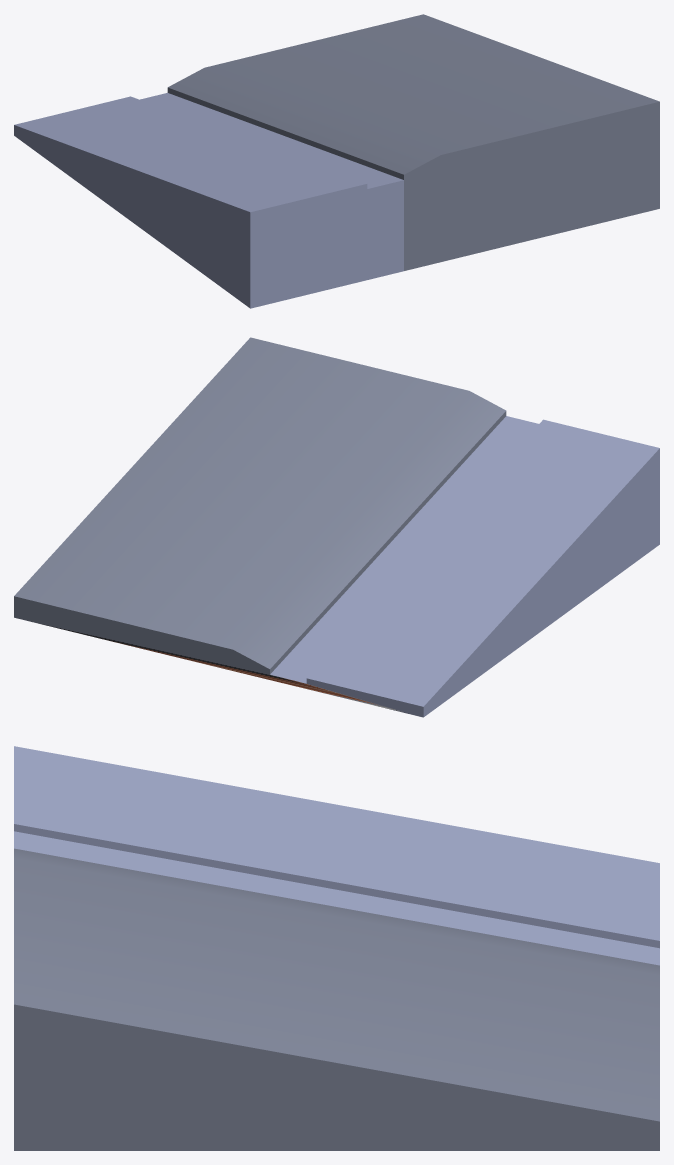
The model's file is road-edge-slope.glb.
The picture shows the model from 3 angles, top to bottom: view 1: azimuth 30°, elevation 25°; view 2: azimuth 150°, elevation 25°; view 3: azimuth 270°, elevation 25°; orthographic projection. The views are drawn at different scales.
Visible parts, largest first — view 1: road-edge-slope; view 2: road-edge-slope; view 3: road-edge-slope.
Boxes of the visible parts, x1,y1,x2,y2 form: road-edge-slope: (14,14,659,308); road-edge-slope: (14,337,659,717); road-edge-slope: (14,746,659,1150).
Size of the model in its own units: 1 by 0.25 by 1.
Materials: 1 (1 with a texture image).
